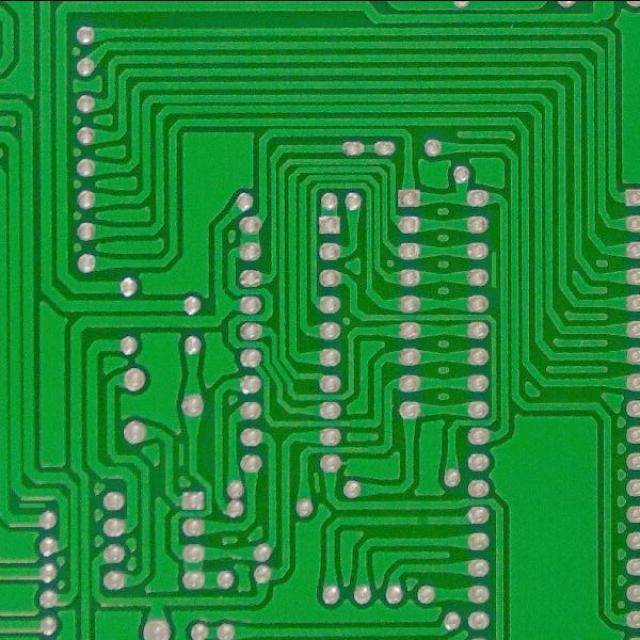Spurious_Cooper: (490, 248, 500, 291), (310, 467, 324, 496), (16, 499, 49, 511), (176, 440, 187, 470)
